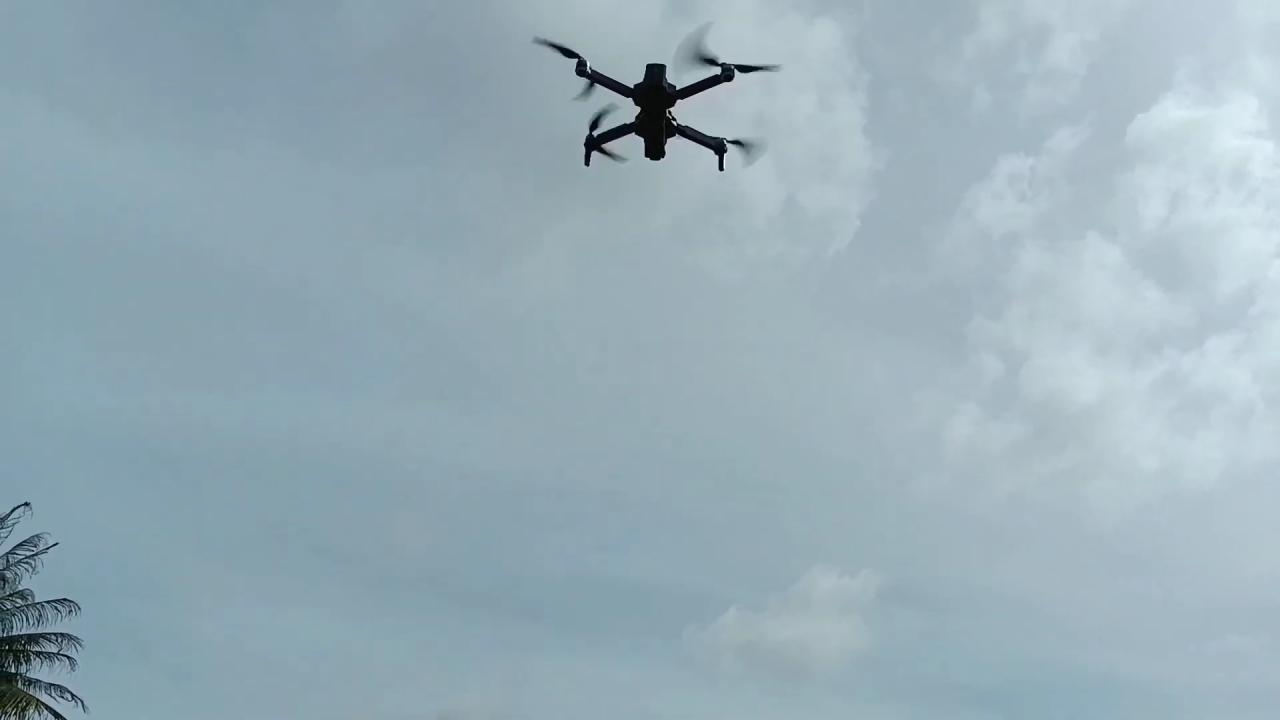Drone: (522, 12, 795, 185)
